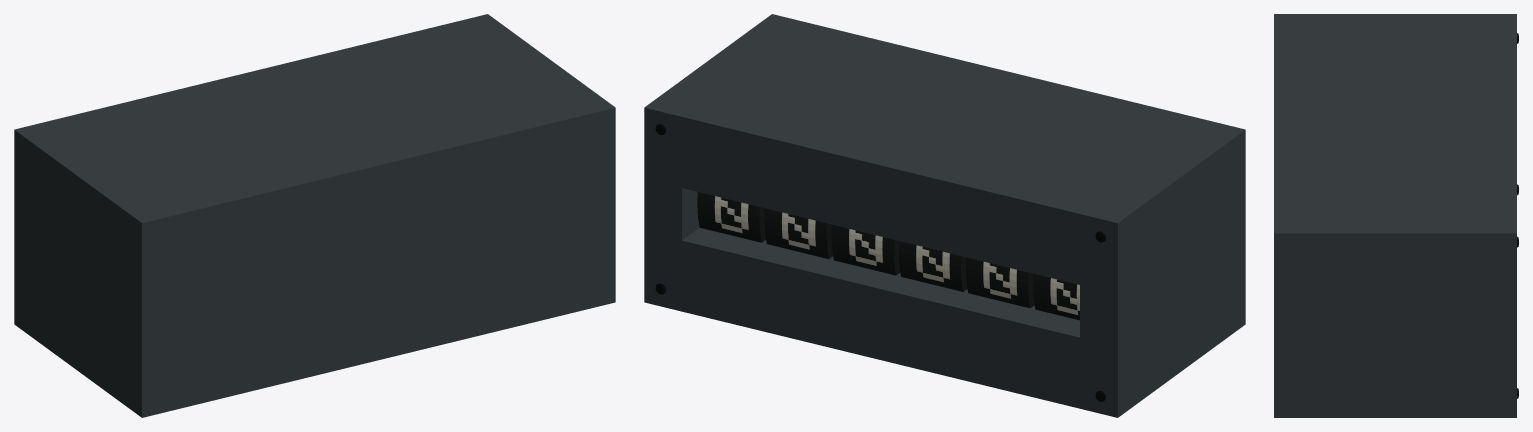
Rendered from MFDStudio.obj.
The picture shows the model from 3 angles, left to right: view 1: azimuth 30°, elevation 25°; view 2: azimuth 150°, elevation 25°; view 3: azimuth 270°, elevation 25°; orthographic projection. The views are drawn at different scales.
Parts seen in each view (by area): view 1: MFDStudioBody; view 2: MFDStudioBody, MFDStudioDrum1, MFDStudioDrum4, MFDStudioDrum5, MFDStudioDrum3, MFDStudioDrum2, MFDStudioDrum0; view 3: MFDStudioBody.
Boxes of the visible parts, <box> form: MFDStudioBody: <box>14,14,615,417</box>; MFDStudioBody: <box>644,14,1245,417</box>; MFDStudioDrum1: <box>966,257,1034,308</box>; MFDStudioDrum4: <box>764,208,832,258</box>; MFDStudioDrum5: <box>697,192,765,242</box>; MFDStudioDrum3: <box>831,224,900,275</box>; MFDStudioDrum2: <box>899,241,967,291</box>; MFDStudioDrum0: <box>1033,274,1079,320</box>; MFDStudioBody: <box>1274,14,1516,417</box>.
Size of the model in its own units: 0.14 by 0.055 by 0.066.
Materials: 5 (2 with a texture image).
